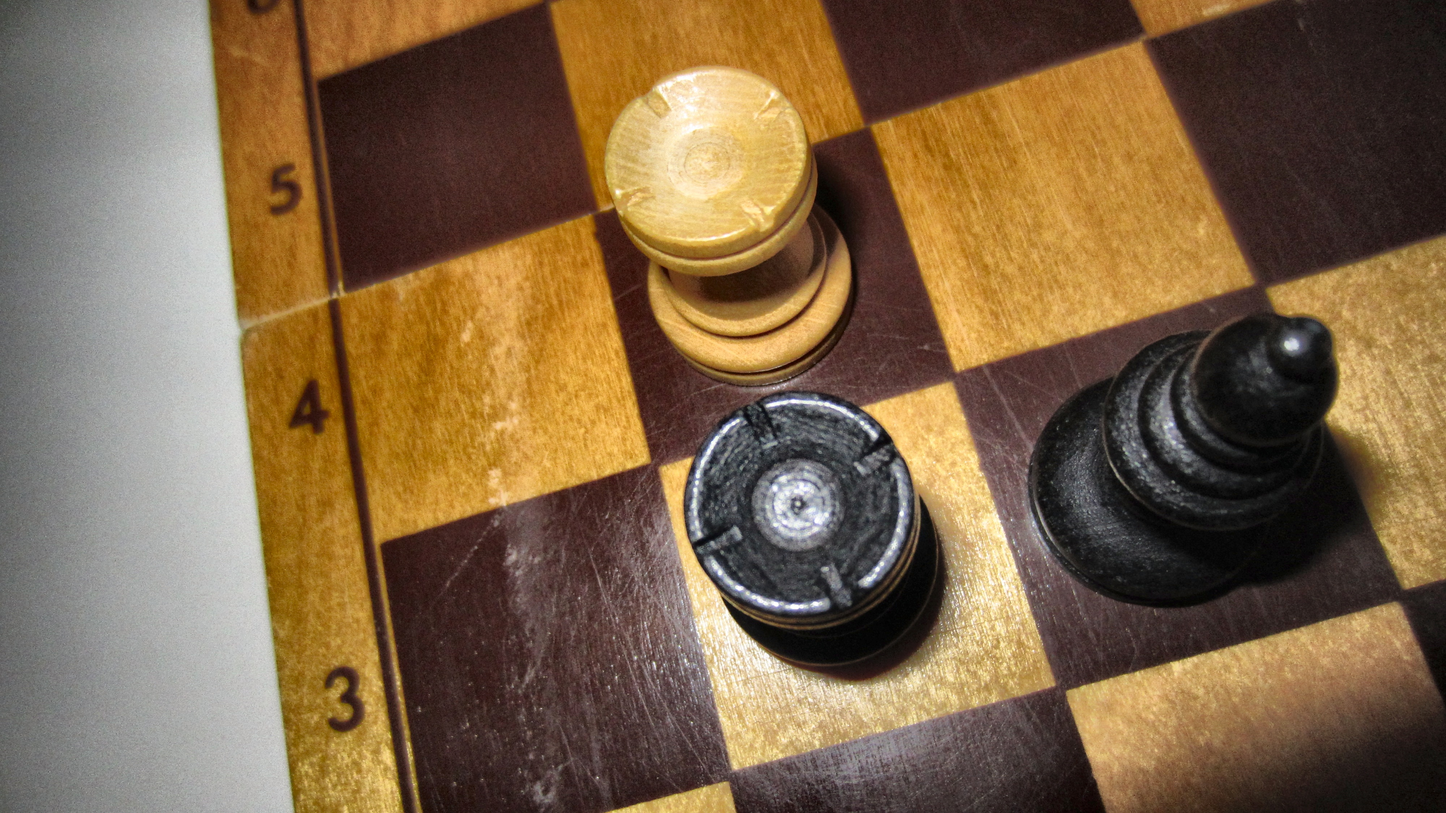black-bishop: (1025, 308, 1340, 607)
black-rook: (682, 391, 944, 671)
white-rook: (603, 64, 858, 388)
